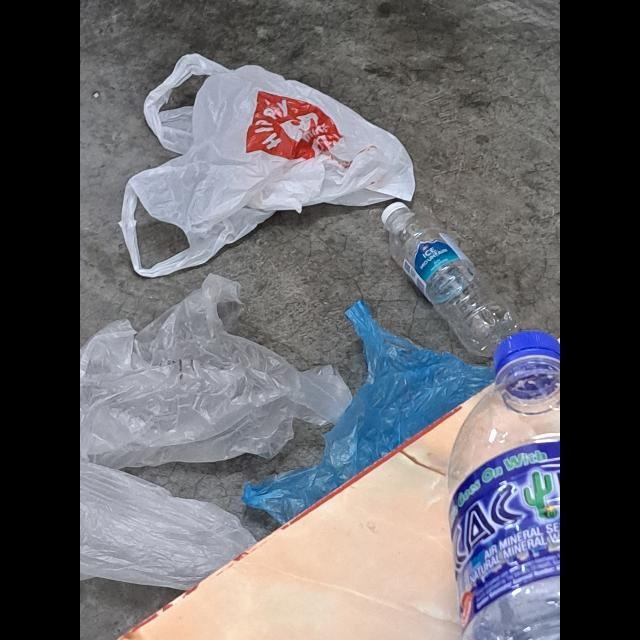garrafa plástica: (452, 358, 560, 640), (388, 212, 520, 358)
sacola plástica: (118, 52, 416, 278), (244, 299, 496, 523), (80, 272, 356, 468), (80, 460, 256, 590)
tampa plástica: (492, 330, 560, 380), (382, 200, 408, 226)
